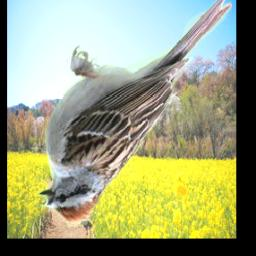Sparrow: (35, 0, 232, 228)
